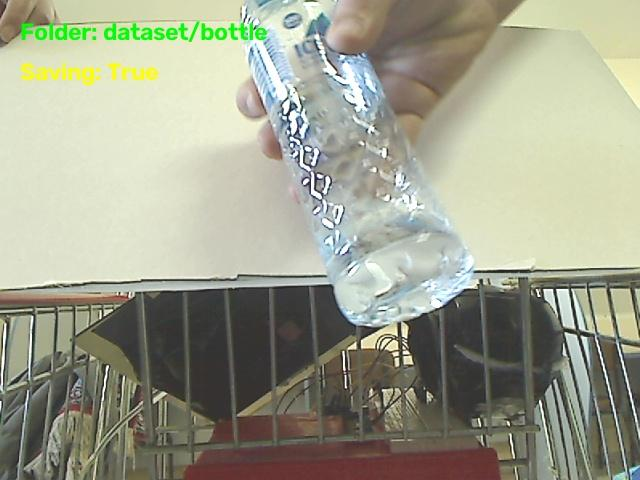Bottle: (242, 0, 472, 326)
